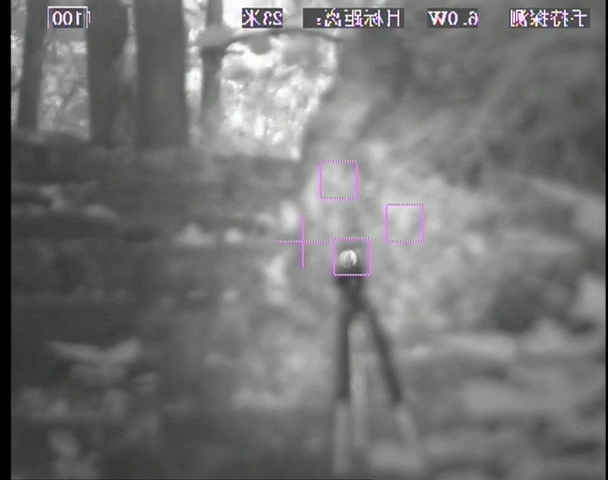my: (338, 247, 359, 271)
